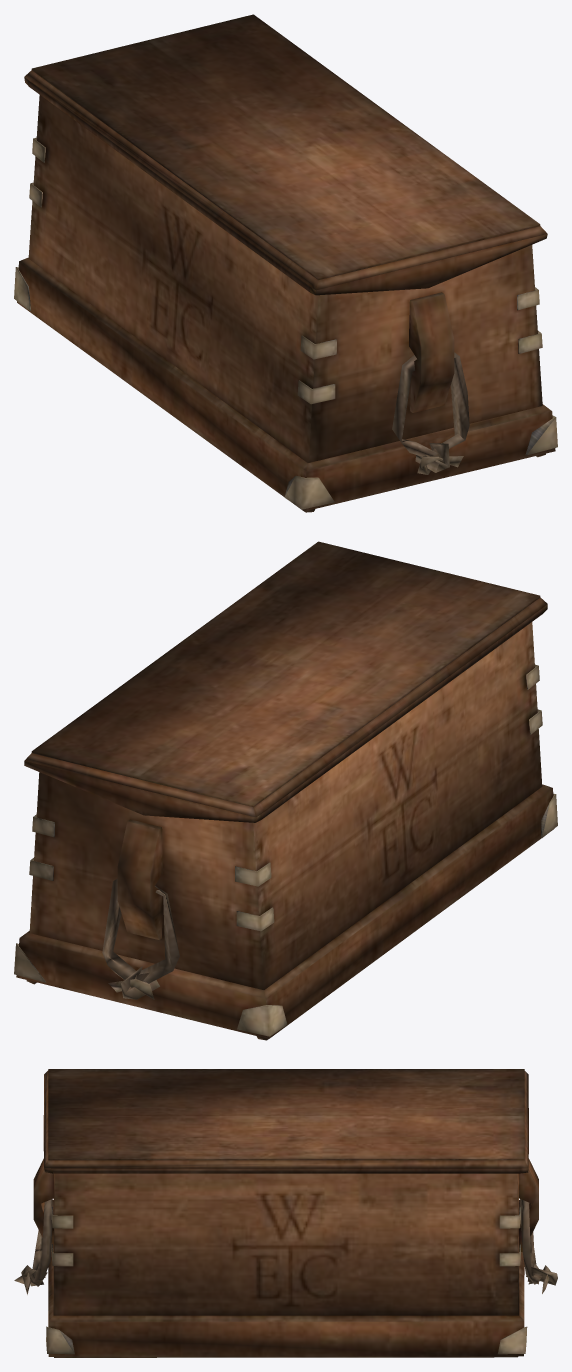
File: wooden_crate_02.glb
3 renders of one model, top to bottom at view 1: azimuth 30°, elevation 25°; view 2: azimuth 150°, elevation 25°; view 3: azimuth 270°, elevation 25°, orthographic. The views are drawn at different scales.
Visible parts, largest first — view 1: wooden_crate_02_crate, wooden_crate_02_lid; view 2: wooden_crate_02_crate, wooden_crate_02_lid; view 3: wooden_crate_02_crate, wooden_crate_02_lid.
Part boxes in pixels (left/top/right/bottom): wooden_crate_02_crate: left=14, top=95, right=557, bottom=512; wooden_crate_02_lid: left=24, top=14, right=547, bottom=295; wooden_crate_02_crate: left=14, top=622, right=557, bottom=1040; wooden_crate_02_lid: left=24, top=541, right=547, bottom=822; wooden_crate_02_crate: left=14, top=1158, right=557, bottom=1357; wooden_crate_02_lid: left=43, top=1069, right=528, bottom=1173.
Size of the model in its own units: 0.5291 by 0.4628 by 1.16.
Materials: 1 (1 with a texture image).
